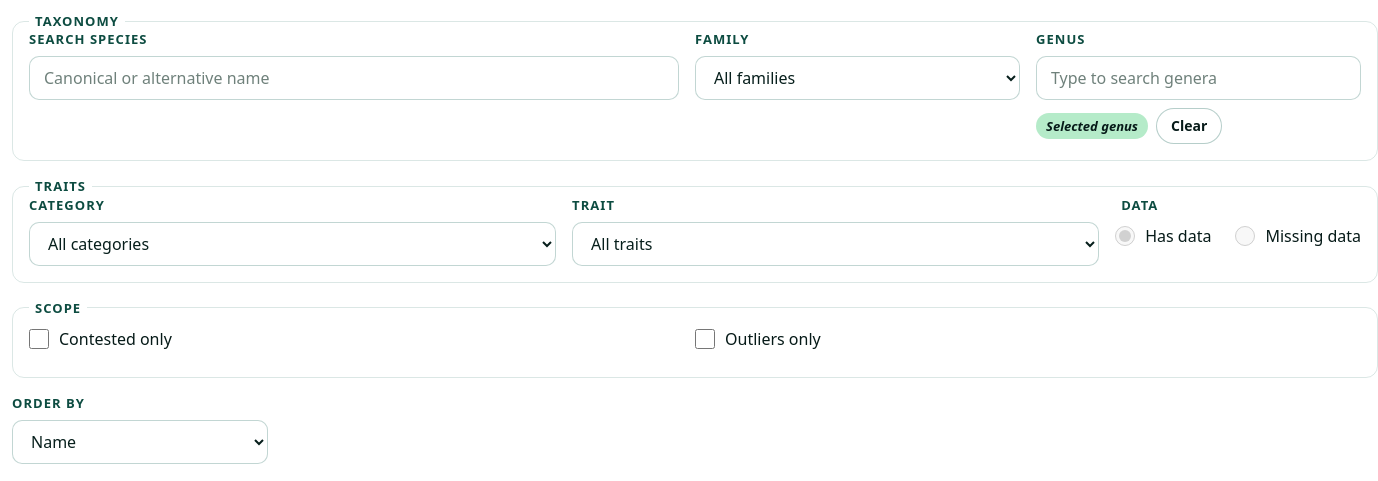
Test: RFC-13 R2, RFC-60 R6 SpeciesSearchForm genus chip › shows a neutral fallback chip when genusId is set without a resolved genus name, and Clear removes it
Expected: the text "Selected genus" is shown, [1046,117,1138,136]
Click the button with aria-label "Clear genus" at (1189,126), box [1156,108,1222,144]
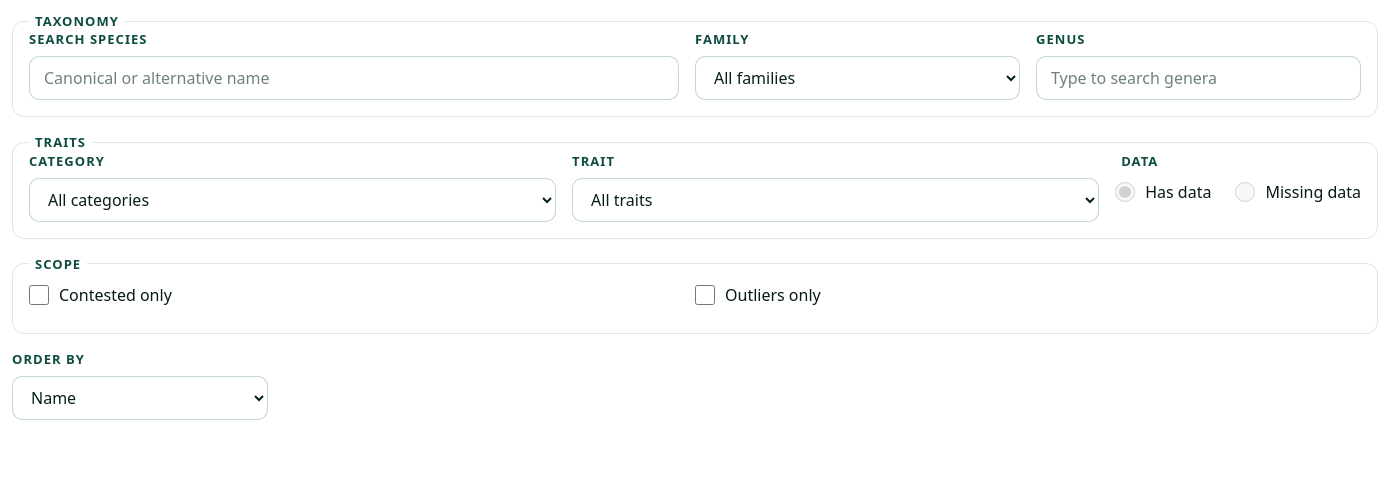
Expected: the text "Selected genus" is gone
